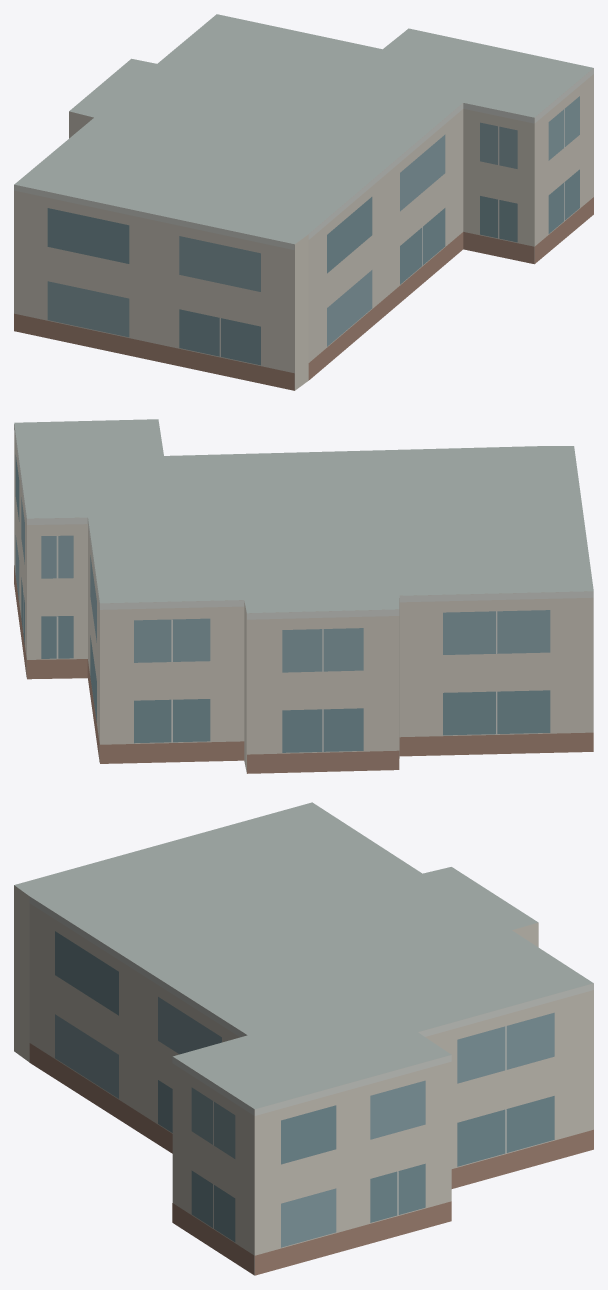
The model's file is survey-upis-32470183.glb.
The picture shows the model from 3 angles, top to bottom: view 1: azimuth 30°, elevation 25°; view 2: azimuth 150°, elevation 25°; view 3: azimuth 270°, elevation 25°; orthographic projection. The views are drawn at different scales.
Visible parts, largest first — view 1: survey-upis-32470183.tmp; view 2: survey-upis-32470183.tmp; view 3: survey-upis-32470183.tmp.
Part boxes in pixels (box(x1,y1,x2,y2)): survey-upis-32470183.tmp: box(14, 14, 593, 390); survey-upis-32470183.tmp: box(14, 419, 593, 773); survey-upis-32470183.tmp: box(14, 802, 593, 1275).
Bounding box in the file's own units: 22.97 × 5.8 × 18.33.
